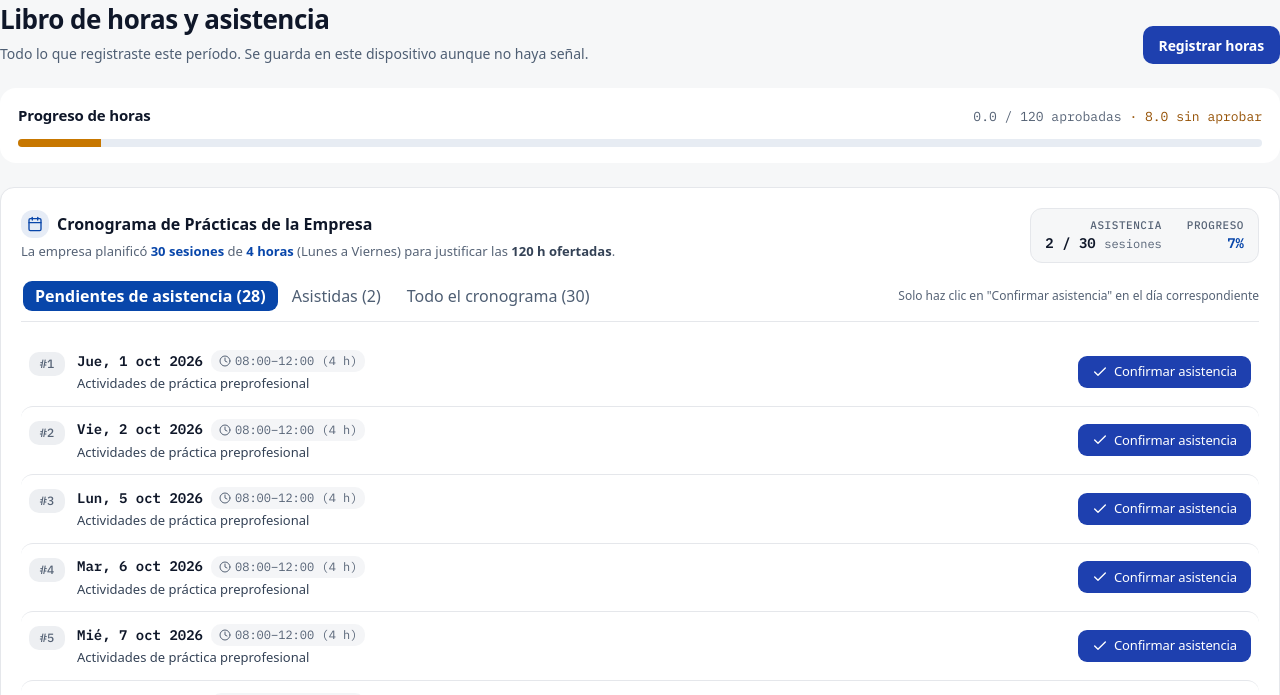
Test: HourLogsPage calendar dates › opens the dialog when clicking the register hours button
Click the button "Registrar horas" at coordinates (1211, 45), box [1142,26,1279,64]
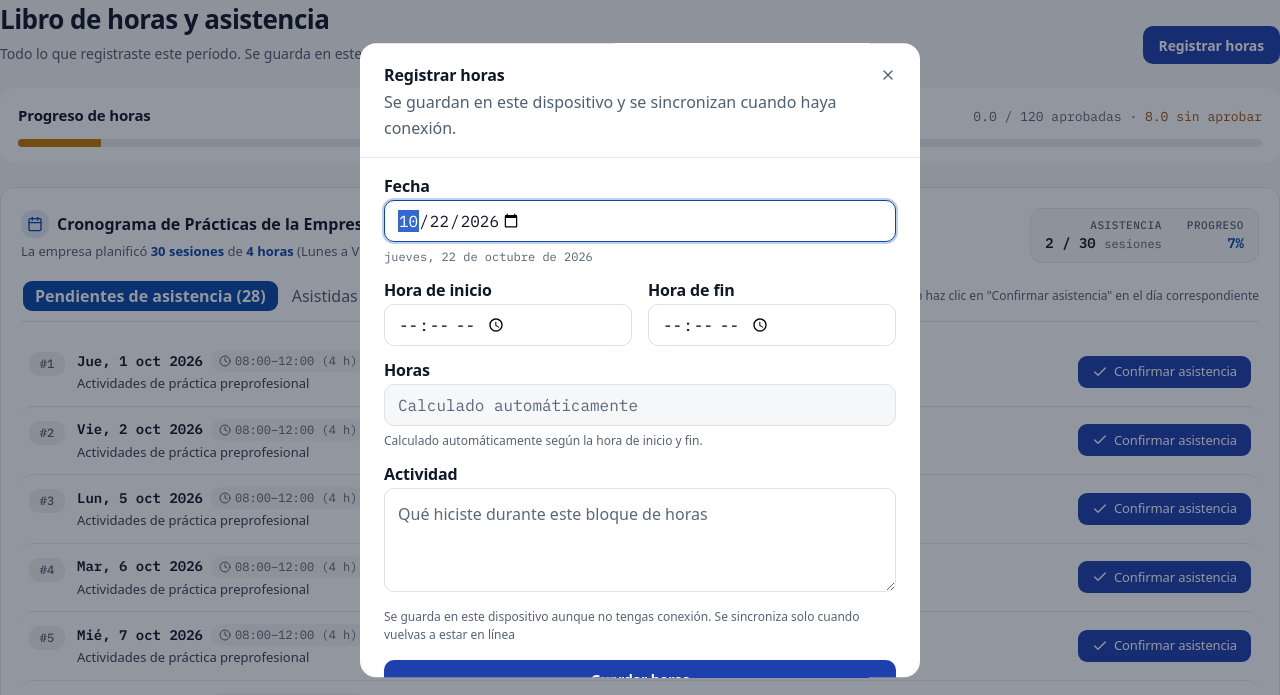
Expected: the dialog is shown, [360,43,920,677]
